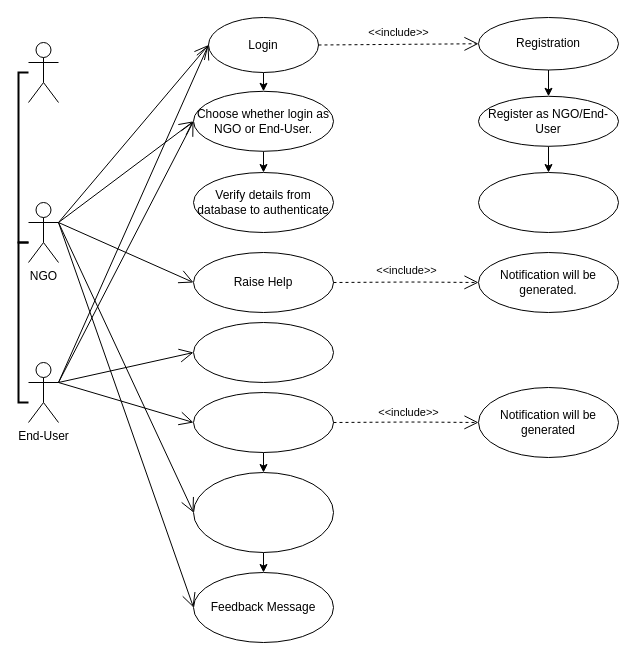
Some shapes in this 636 by 660 pixel diagram are drawn without their labels. The box of each missing label's shape, as (x1, y1, x2, y2) in pixels:
Makes Donation: (192, 392, 334, 452)
Read the notification: (192, 322, 334, 382)
Record of a donation will be stored in Database: (192, 472, 334, 552)
Store details in database.: (478, 172, 618, 232)
Users: (28, 42, 58, 102)
